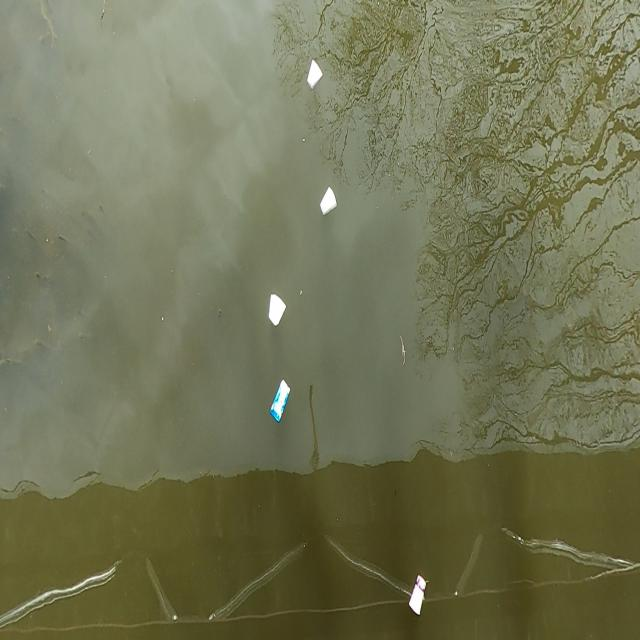Non plastique: (264, 376, 296, 431), (407, 571, 431, 629), (316, 180, 344, 224), (266, 286, 290, 336), (303, 50, 327, 98)
